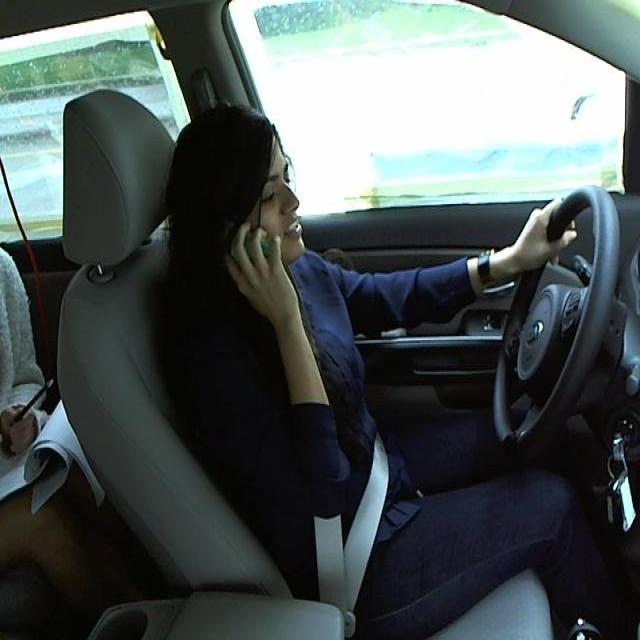using_phone: (154, 90, 332, 308)
